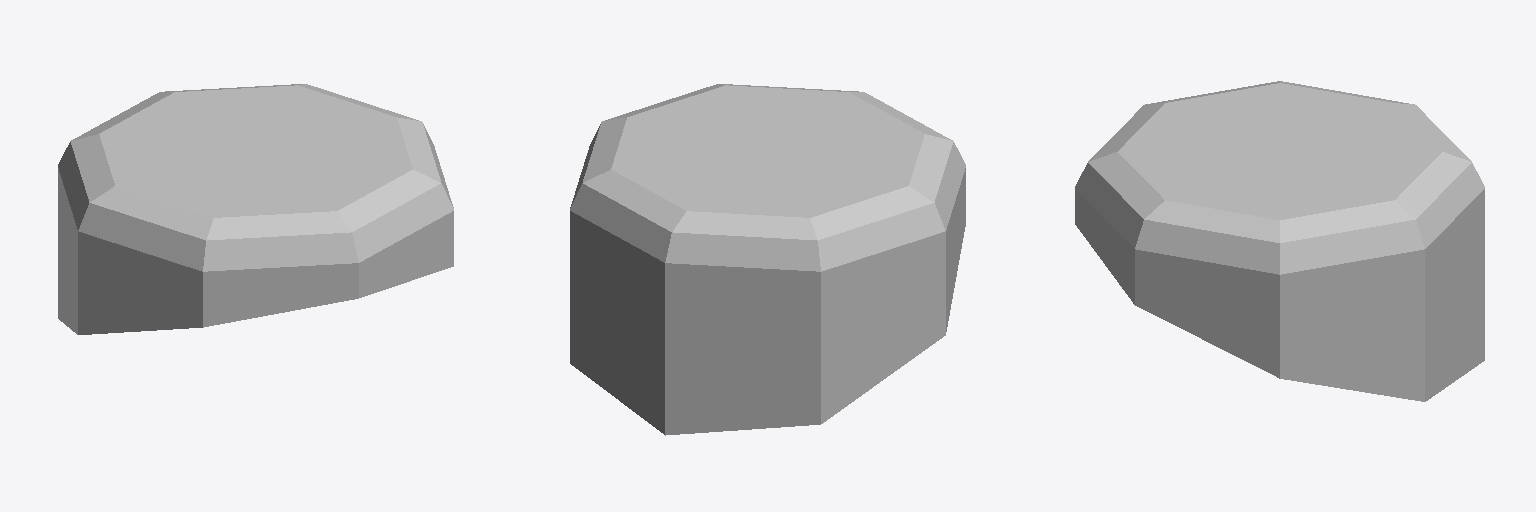
File: SMButton.obj
The picture shows the model from 3 angles: view 1: azimuth 30°, elevation 25°; view 2: azimuth 150°, elevation 25°; view 3: azimuth 270°, elevation 25°; orthographic projection.
Visible parts, largest first — view 1: SMButton:button SMButton:button_stand1 initialShadingGroup SMBut; view 2: SMButton:button SMButton:button_stand1 initialShadingGroup SMBut; view 3: SMButton:button SMButton:button_stand1 initialShadingGroup SMBut.
Part boxes in pixels (x1,y1,x2,y2): SMButton:button SMButton:button_stand1 initialShadingGroup SMBut: (58,84,453,334); SMButton:button SMButton:button_stand1 initialShadingGroup SMBut: (570,84,965,435); SMButton:button SMButton:button_stand1 initialShadingGroup SMBut: (1075,81,1484,401).
Bounding box in the file's own units: 0.1303 × 0.073 × 0.1303.